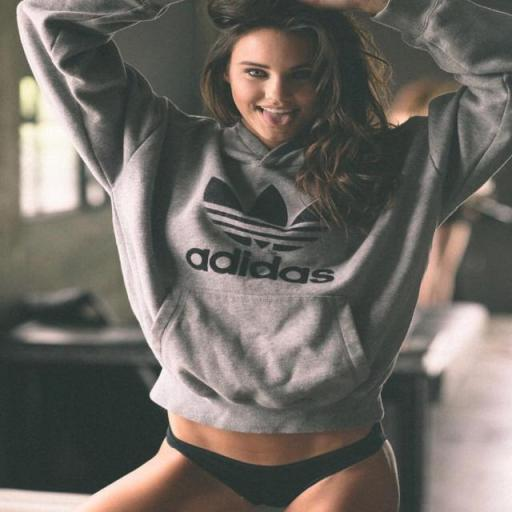Adidas: (184, 170, 337, 286)
